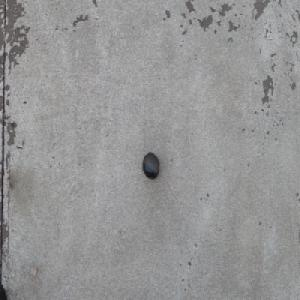FuelCap: (142, 151, 159, 179)
